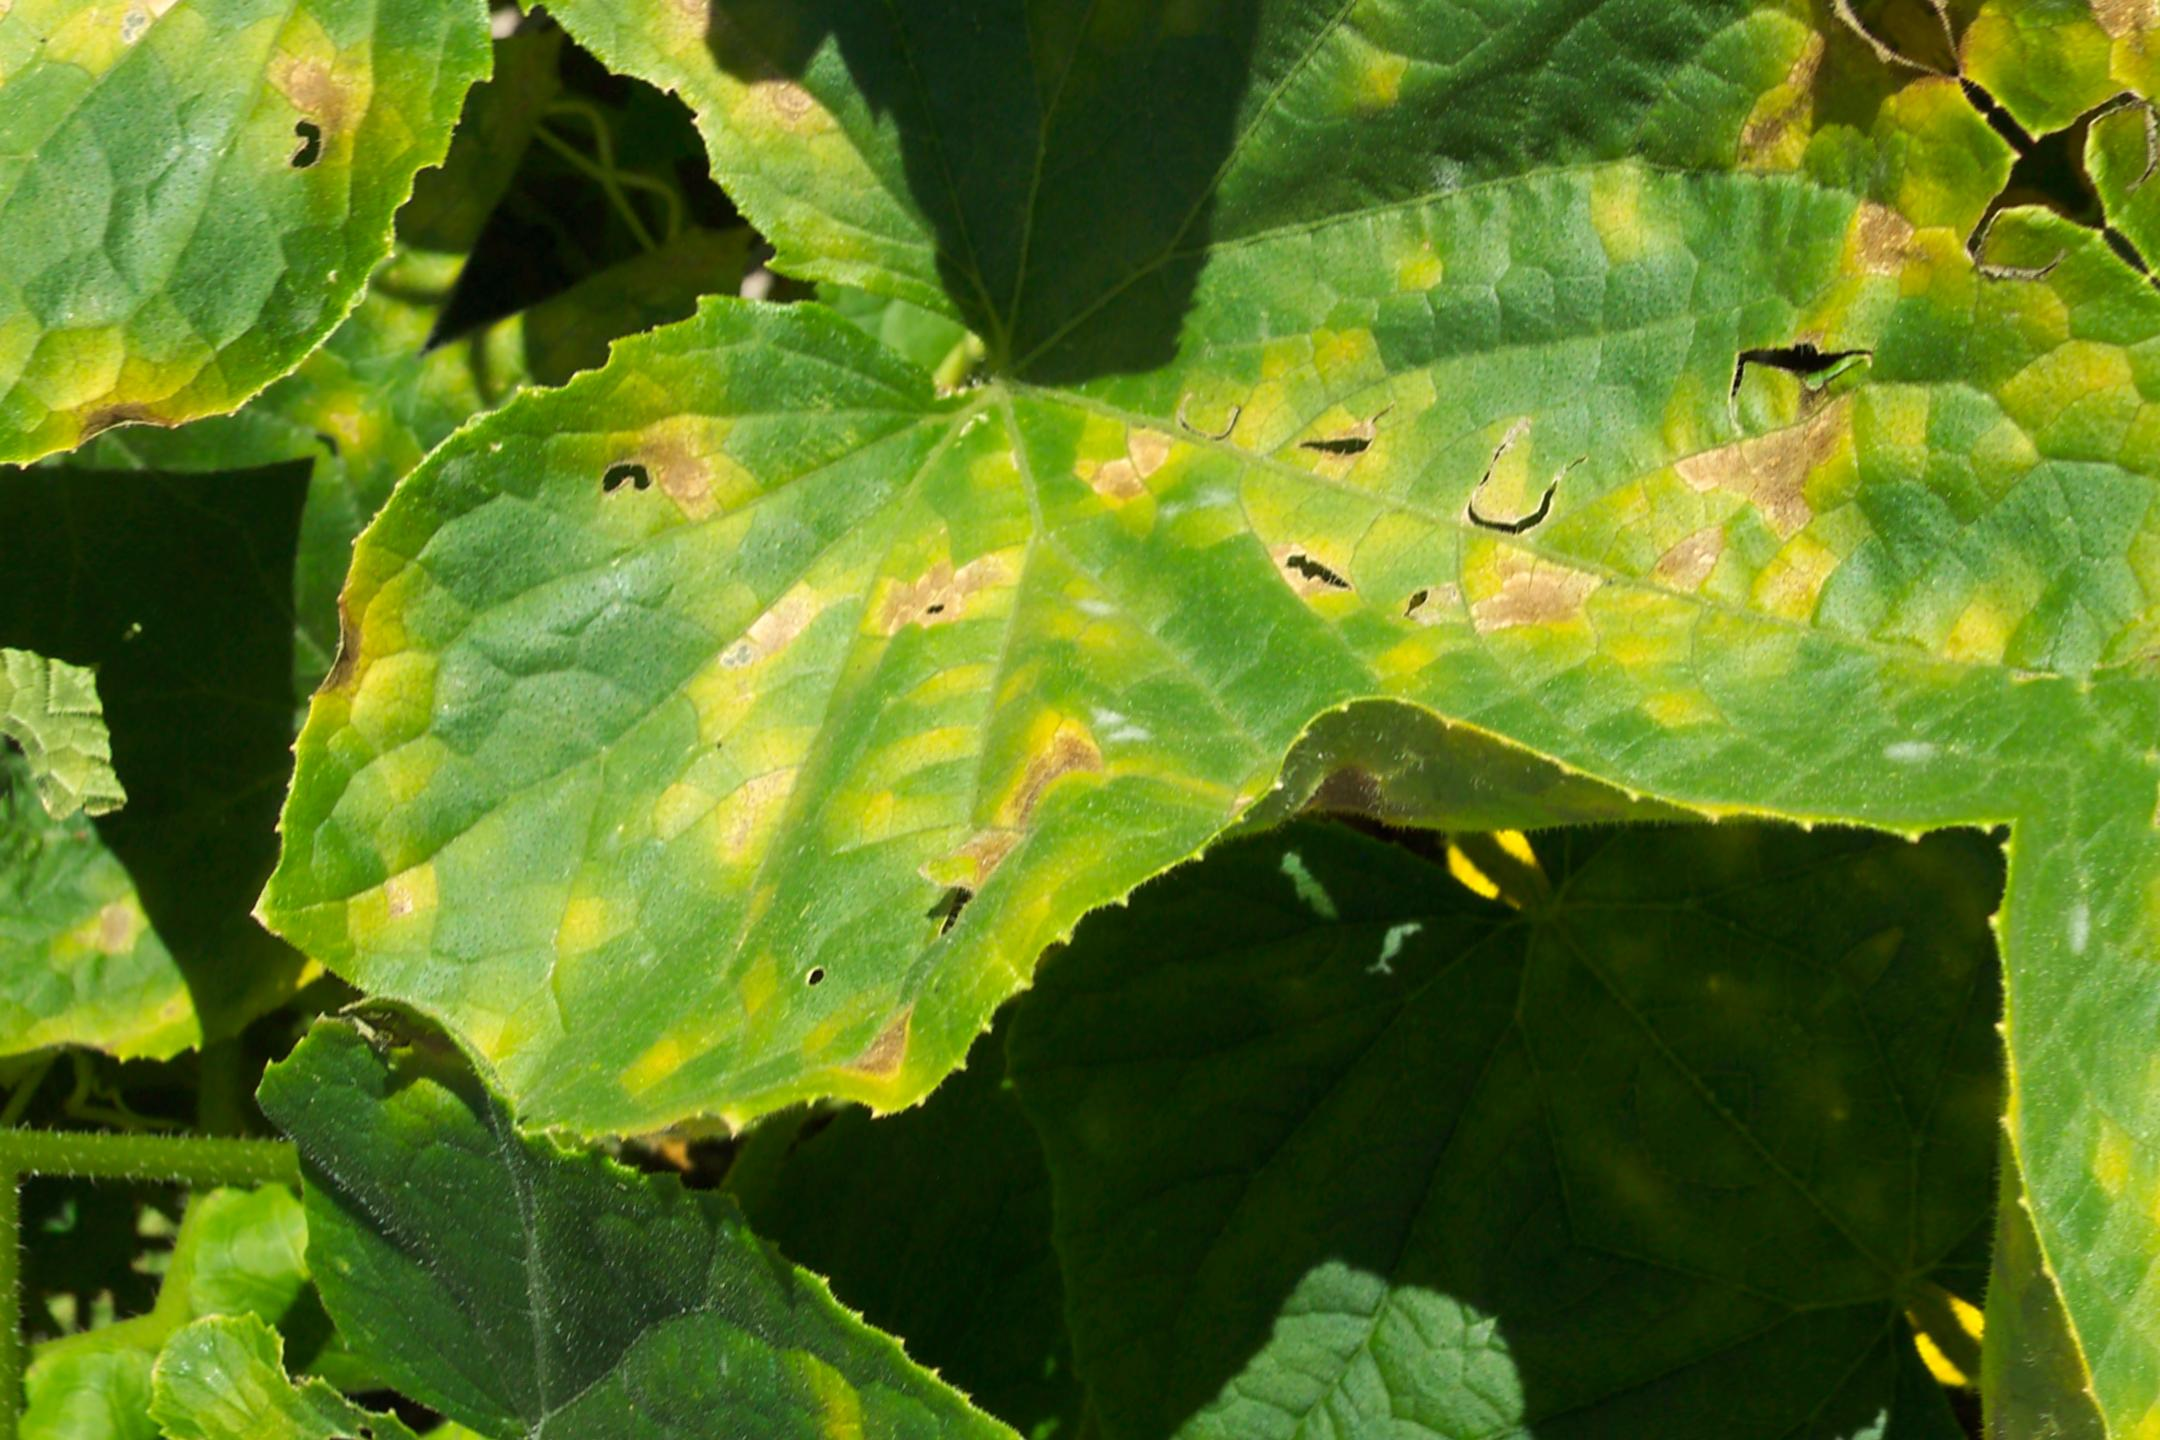Tomato mold leaf: (59, 0, 2160, 1440)
